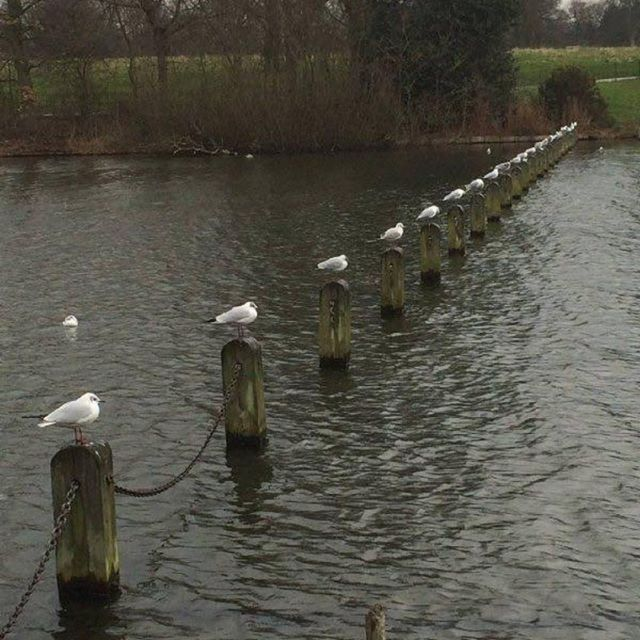animal: (27, 386, 108, 446), (203, 295, 264, 330), (443, 181, 476, 207), (416, 199, 449, 225), (376, 217, 409, 243), (317, 250, 350, 276), (463, 172, 485, 202)
river: (1, 156, 631, 640)
vegetation: (1, 1, 611, 129)
